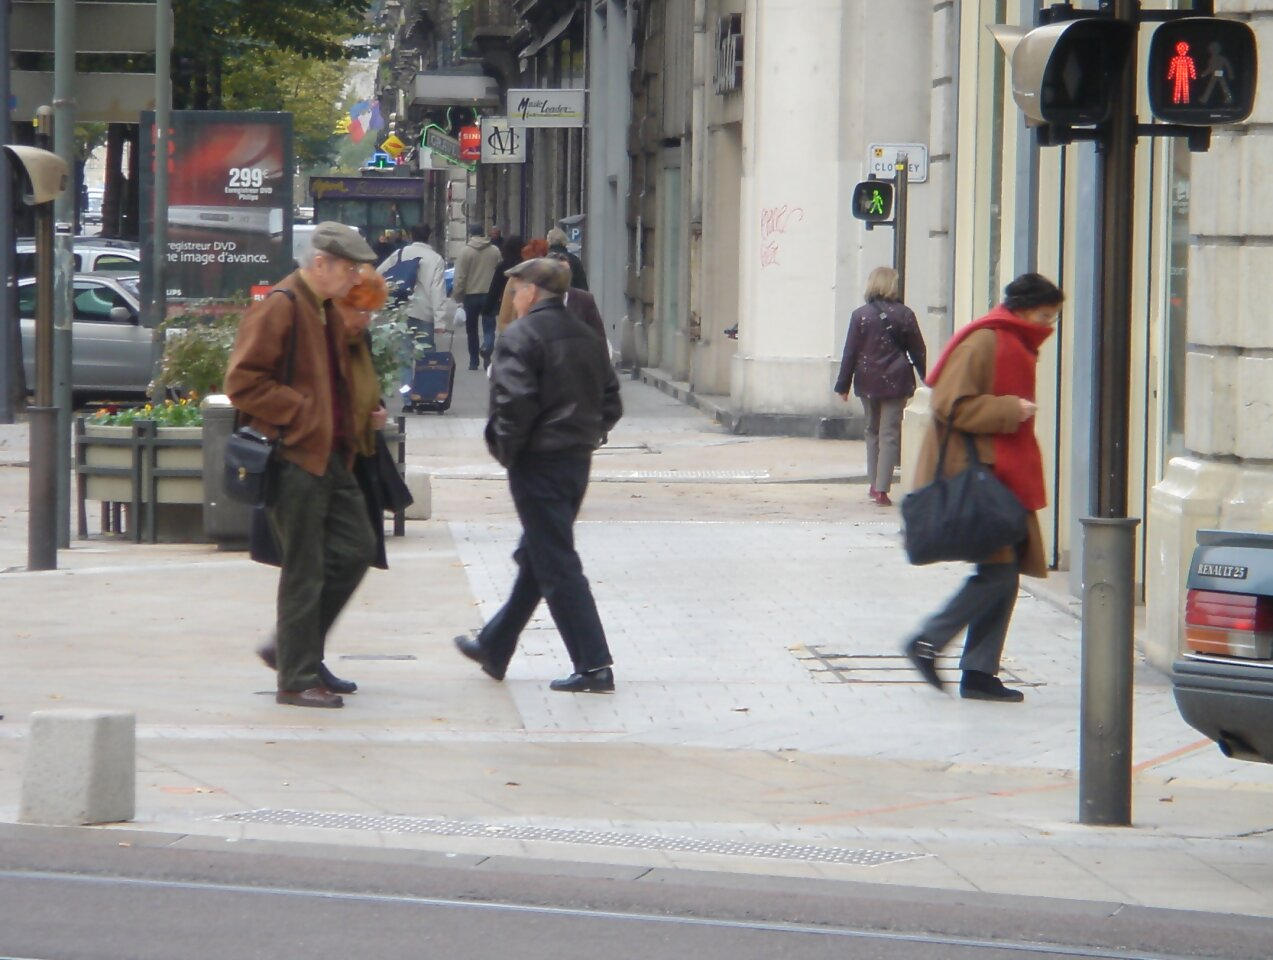person: (223, 220, 415, 716), (450, 249, 642, 705), (907, 268, 1059, 710), (836, 261, 943, 511)
